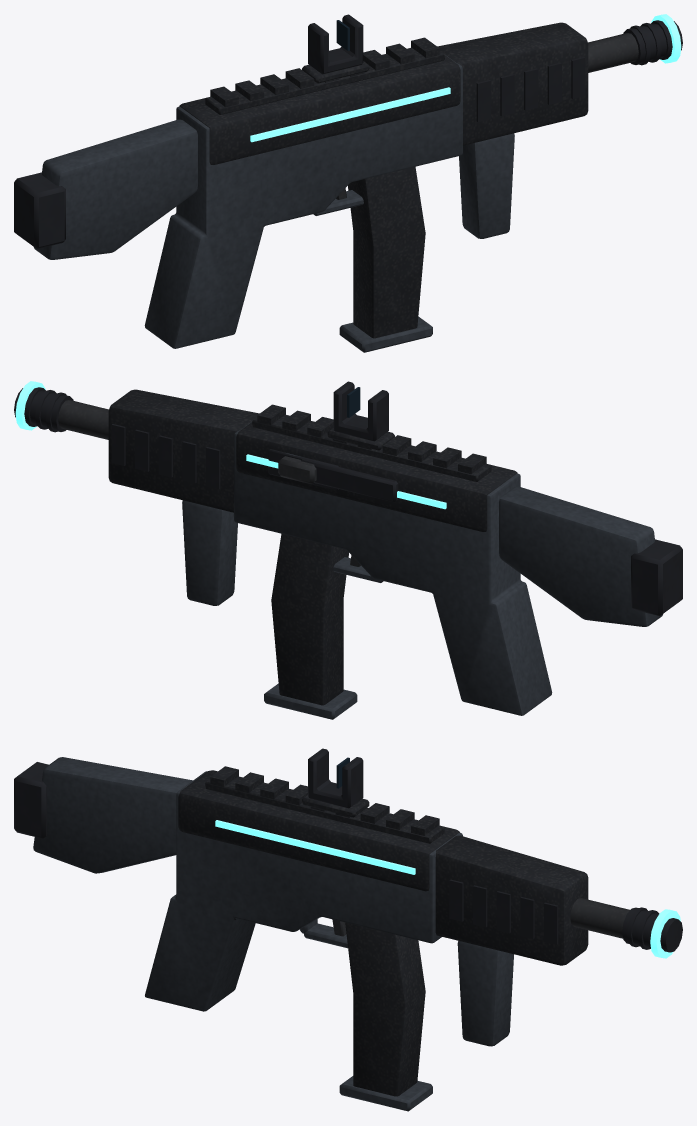
Rendered from smg_r2.fbx.
The picture shows the model from 3 angles, top to bottom: view 1: azimuth 30°, elevation 25°; view 2: azimuth 150°, elevation 25°; view 3: azimuth 330°, elevation 25°; orthographic projection.
Parts seen in each view (by area): view 1: Body, Magazine, Glow; view 2: Body, Magazine, Bolt, Glow; view 3: Body, Magazine, Glow.
Part boxes in pixels (x1,y1,x2,y2): Body: [14, 14, 682, 348]; Magazine: [339, 166, 432, 352]; Glow: [250, 14, 681, 142]; Body: [14, 381, 682, 715]; Magazine: [264, 533, 357, 719]; Bolt: [268, 449, 398, 502]; Glow: [15, 381, 446, 509]; Body: [14, 748, 682, 1046]; Magazine: [339, 922, 432, 1111]; Glow: [215, 820, 680, 958].
Size of the model in its own units: 6.05 by 2.89 by 0.6725.
2 materials, 1 textured.
